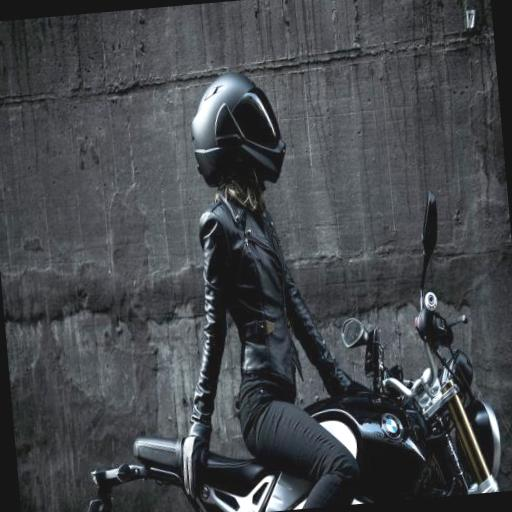helmet: (149, 35, 412, 512)
